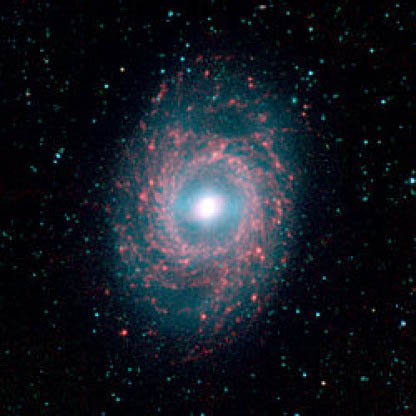Messier 95: (95, 45, 312, 362)
